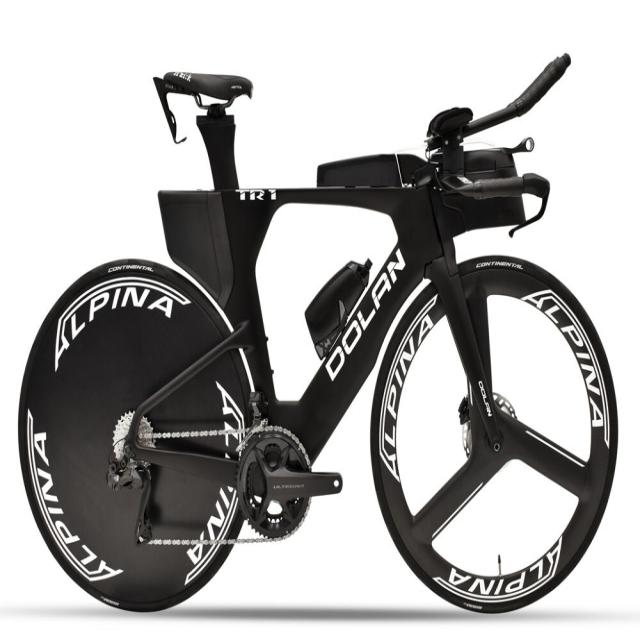TT-bike: (17, 49, 614, 617)
